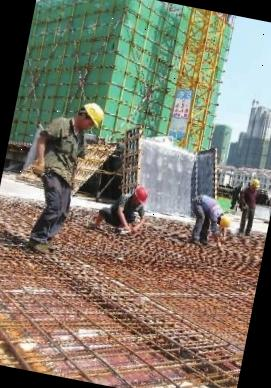helmet: (76, 101, 104, 125), (131, 184, 151, 204), (216, 212, 232, 230), (248, 177, 261, 189)
no_wear: (34, 124, 85, 182), (199, 196, 222, 218), (240, 187, 258, 210)
